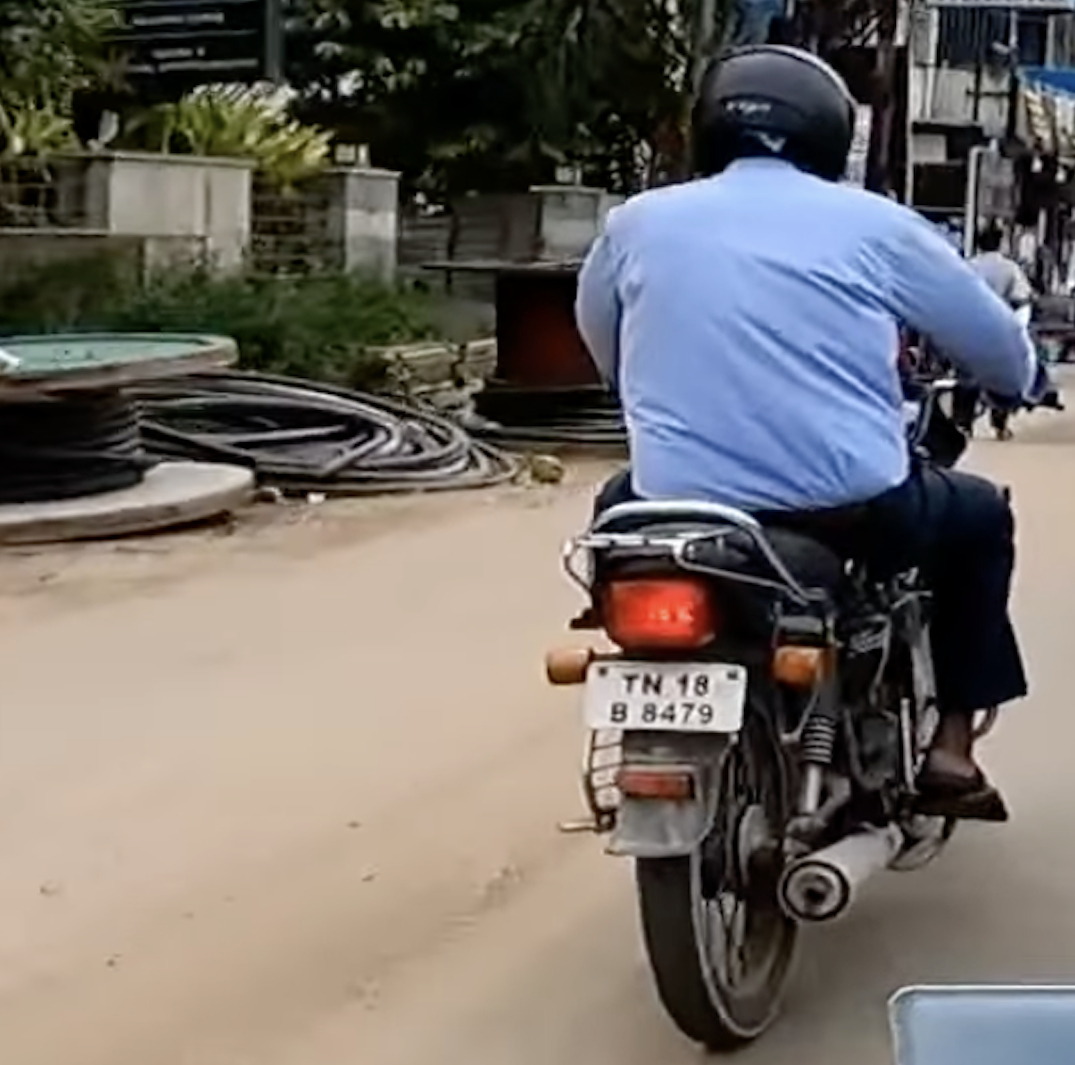motor: (556, 479, 1032, 1044)
number: (584, 660, 746, 732)
with helmet: (697, 37, 852, 183)
